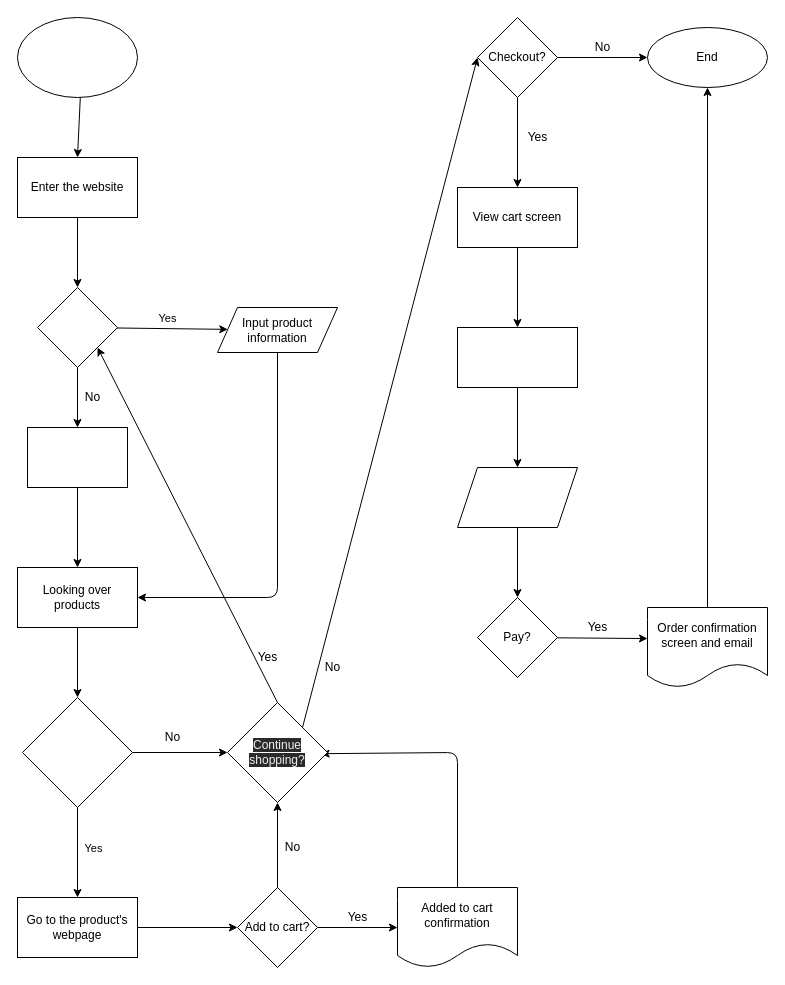
The diagram is 785 pixels wide and 985 high, and some of its shapes have lost their labels. The shapes that lost their labels are listed below. From the top down, each one's box as (x1, y1, x2, y2) in pixels, then its label:
(16, 16, 138, 98): Start
(36, 286, 118, 368): Search?
(456, 326, 578, 388): View payment screen
(26, 426, 128, 488): Explore products
(456, 466, 578, 528): Input payment information
(22, 696, 132, 808): View the product?
